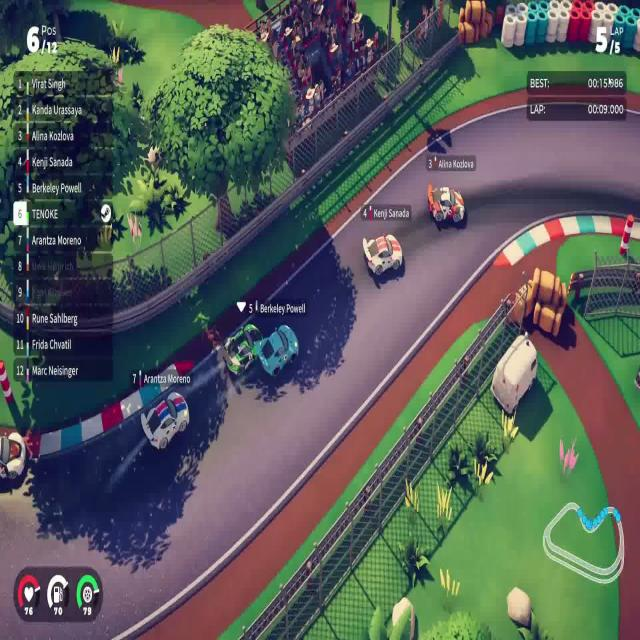car: (140, 389, 190, 451), (256, 323, 299, 379), (222, 321, 264, 377), (426, 181, 466, 230), (362, 232, 403, 278)
